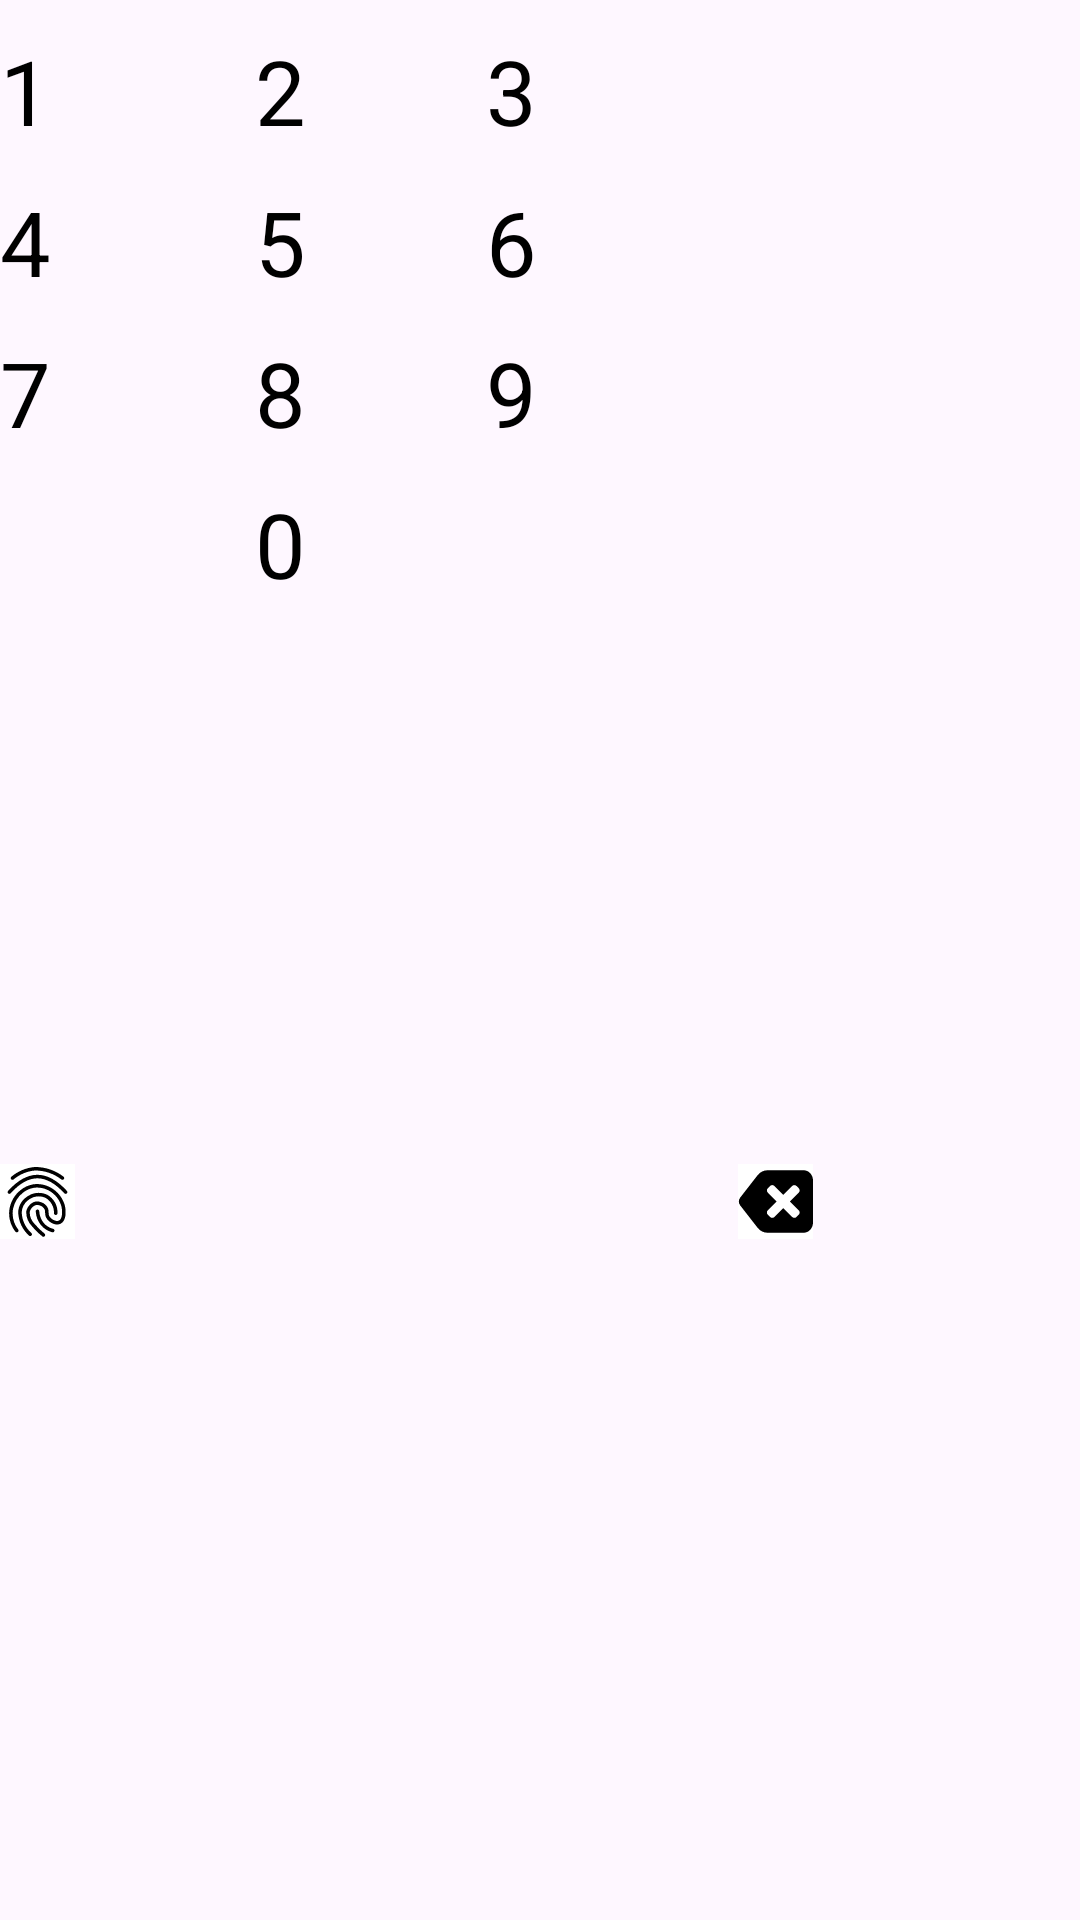

Where to tap for icons on this 1080*1920 app screen, as [x,y]:
delete key: [775,1201]
finger biometric: [37,1202]
